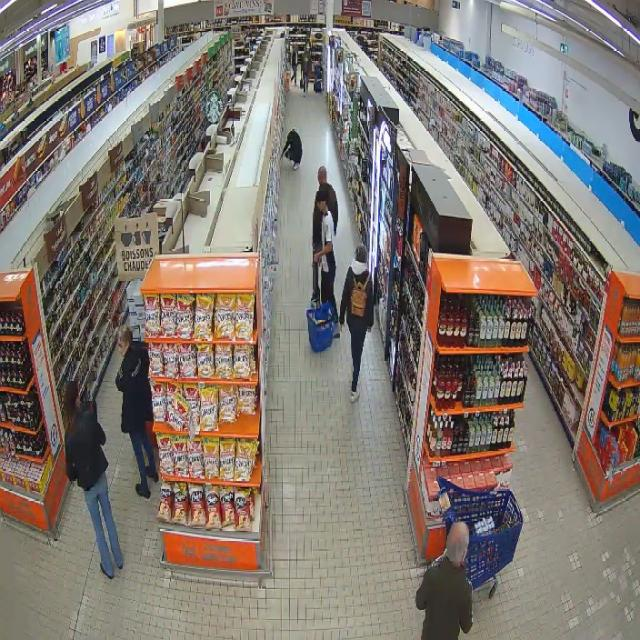bags: (350, 275, 369, 317)
hands: (313, 253, 321, 263), (280, 153, 284, 160), (368, 327, 371, 333)
person: (65, 381, 122, 578), (115, 326, 158, 498), (416, 522, 472, 639), (339, 246, 373, 401), (313, 191, 337, 321), (318, 168, 339, 232), (281, 129, 302, 168)
